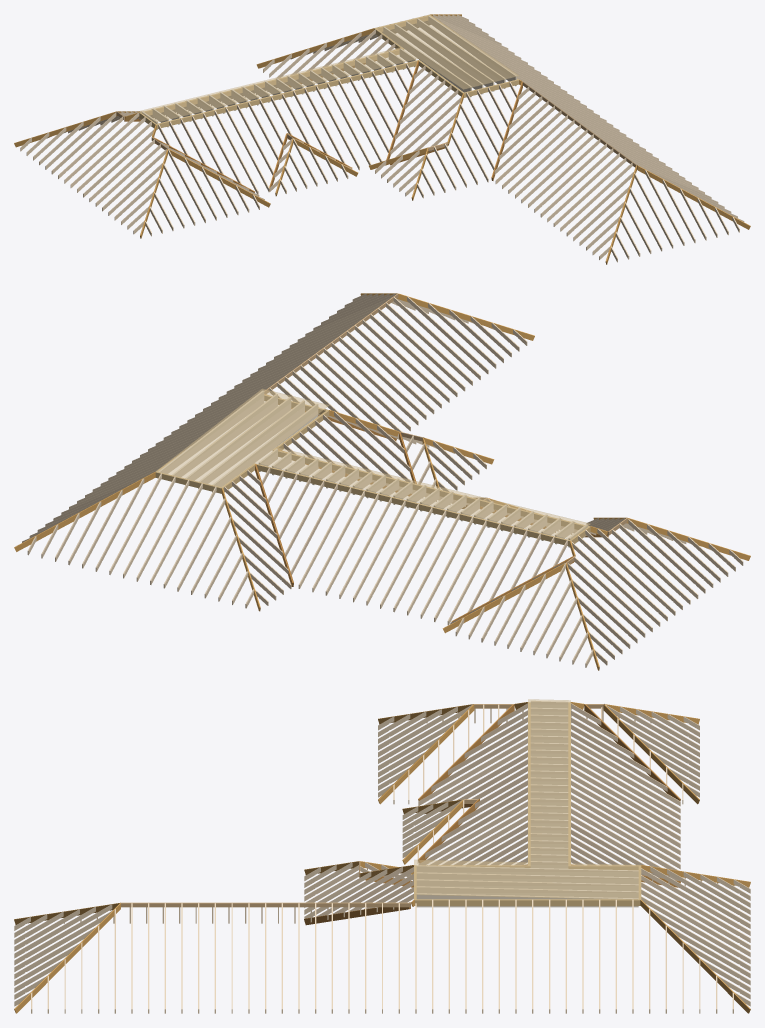
File: stage-5.glb
3 views of the same model, one above another, from view 1: azimuth 30°, elevation 25°; view 2: azimuth 150°, elevation 25°; view 3: azimuth 270°, elevation 25° (orthographic). The views are drawn at different scales.
Parts seen in each view (by area): view 1: Geom3D_R54 common 47.0 x 150.0 C24 L4664, Geom3D_JH30 jack hip 47.0 x 150.0 C24 L710, Geom3D_M349 osb 18 OSB3 deck L0, Geom3D_CP43 cripple 47.0 x 150.0 C24 L1717, Geom3D_CJ291 ceiling joist 75 x 295 C24 L7971, Geom3D_H01 hip 47 x 220 C24 L3078, Geom3D_M292 firring 75 x 27-227 firring L7971, Geom3D_Ply 1, Geom3D_V03 valley 63 x 220 C24 L3078, Geom3D_JV47 jack valley 47.0 x 150.0 C24 L1309, Geom3D_RB04 ridge board 47 x 175 C24 L1039; view 2: Geom3D_R54 common 47.0 x 150.0 C24 L4664, Geom3D_M349 osb 18 OSB3 deck L0, Geom3D_JH30 jack hip 47.0 x 150.0 C24 L710, Geom3D_CP43 cripple 47.0 x 150.0 C24 L1717, Geom3D_CJ291 ceiling joist 75 x 295 C24 L7971, Geom3D_H01 hip 47 x 220 C24 L3078, Geom3D_M292 firring 75 x 27-227 firring L7971, Geom3D_Ply 1, Geom3D_JV47 jack valley 47.0 x 150.0 C24 L1309, Geom3D_V03 valley 63 x 220 C24 L3078, Geom3D_RB04 ridge board 47 x 175 C24 L1039; view 3: Geom3D_R54 common 47.0 x 150.0 C24 L4664, Geom3D_JH30 jack hip 47.0 x 150.0 C24 L710, Geom3D_M349 osb 18 OSB3 deck L0, Geom3D_CP43 cripple 47.0 x 150.0 C24 L1717, Geom3D_M292 firring 75 x 27-227 firring L7971, Geom3D_CJ291 ceiling joist 75 x 295 C24 L7971, Geom3D_H01 hip 47 x 220 C24 L3078, Geom3D_Ply 1, Geom3D_V03 valley 63 x 220 C24 L3078, Geom3D_RB04 ridge board 47 x 175 C24 L1039.
Part boxes in pixels (<box>): Geom3D_R54 common 47.0 x 150.0 C24 L4664: <box>58,15,704,231</box>; Geom3D_JH30 jack hip 47.0 x 150.0 C24 L710: <box>20,14,744,262</box>; Geom3D_M349 osb 18 OSB3 deck L0: <box>139,14,518,122</box>; Geom3D_CP43 cripple 47.0 x 150.0 C24 L1717: <box>119,29,517,191</box>; Geom3D_CJ291 ceiling joist 75 x 295 C24 L7971: <box>141,17,516,130</box>; Geom3D_H01 hip 47 x 220 C24 L3078: <box>14,14,750,264</box>; Geom3D_M292 firring 75 x 27-227 firring L7971: <box>141,16,516,123</box>; Geom3D_Ply 1: <box>139,15,518,128</box>; Geom3D_V03 valley 63 x 220 C24 L3078: <box>124,48,522,192</box>; Geom3D_JV47 jack valley 47.0 x 150.0 C24 L1309: <box>159,86,561,174</box>; Geom3D_RB04 ridge board 47 x 175 C24 L1039: <box>116,81,636,167</box>; Geom3D_R54 common 47.0 x 150.0 C24 L4664: <box>69,297,698,632</box>; Geom3D_M349 osb 18 OSB3 deck L0: <box>155,388,590,539</box>; Geom3D_JH30 jack hip 47.0 x 150.0 C24 L710: <box>22,293,743,667</box>; Geom3D_CP43 cripple 47.0 x 150.0 C24 L1717: <box>224,402,624,613</box>; Geom3D_CJ291 ceiling joist 75 x 295 C24 L7971: <box>161,397,586,547</box>; Geom3D_H01 hip 47 x 220 C24 L3078: <box>14,293,750,670</box>; Geom3D_M292 firring 75 x 27-227 firring L7971: <box>158,390,587,539</box>; Geom3D_Ply 1: <box>155,394,590,546</box>; Geom3D_JV47 jack valley 47.0 x 150.0 C24 L1309: <box>269,359,621,530</box>; Geom3D_V03 valley 63 x 220 C24 L3078: <box>255,394,608,621</box>; Geom3D_RB04 ridge board 47 x 175 C24 L1039: <box>264,293,627,564</box>; Geom3D_R54 common 47.0 x 150.0 C24 L4664: <box>129,708,750,1013</box>; Geom3D_JH30 jack hip 47.0 x 150.0 C24 L710: <box>14,704,750,1013</box>; Geom3D_M349 osb 18 OSB3 deck L0: <box>414,699,641,899</box>; Geom3D_CP43 cripple 47.0 x 150.0 C24 L1717: <box>316,703,669,916</box>; Geom3D_M292 firring 75 x 27-227 firring L7971: <box>416,700,638,899</box>; Geom3D_CJ291 ceiling joist 75 x 295 C24 L7971: <box>416,704,638,907</box>; Geom3D_H01 hip 47 x 220 C24 L3078: <box>14,702,750,1013</box>; Geom3D_Ply 1: <box>414,702,641,905</box>; Geom3D_V03 valley 63 x 220 C24 L3078: <box>304,704,680,925</box>; Geom3D_RB04 ridge board 47 x 175 C24 L1039: <box>121,704,603,907</box>.
Size of the model in its own units: 24.7 by 2.91 by 26.46.
